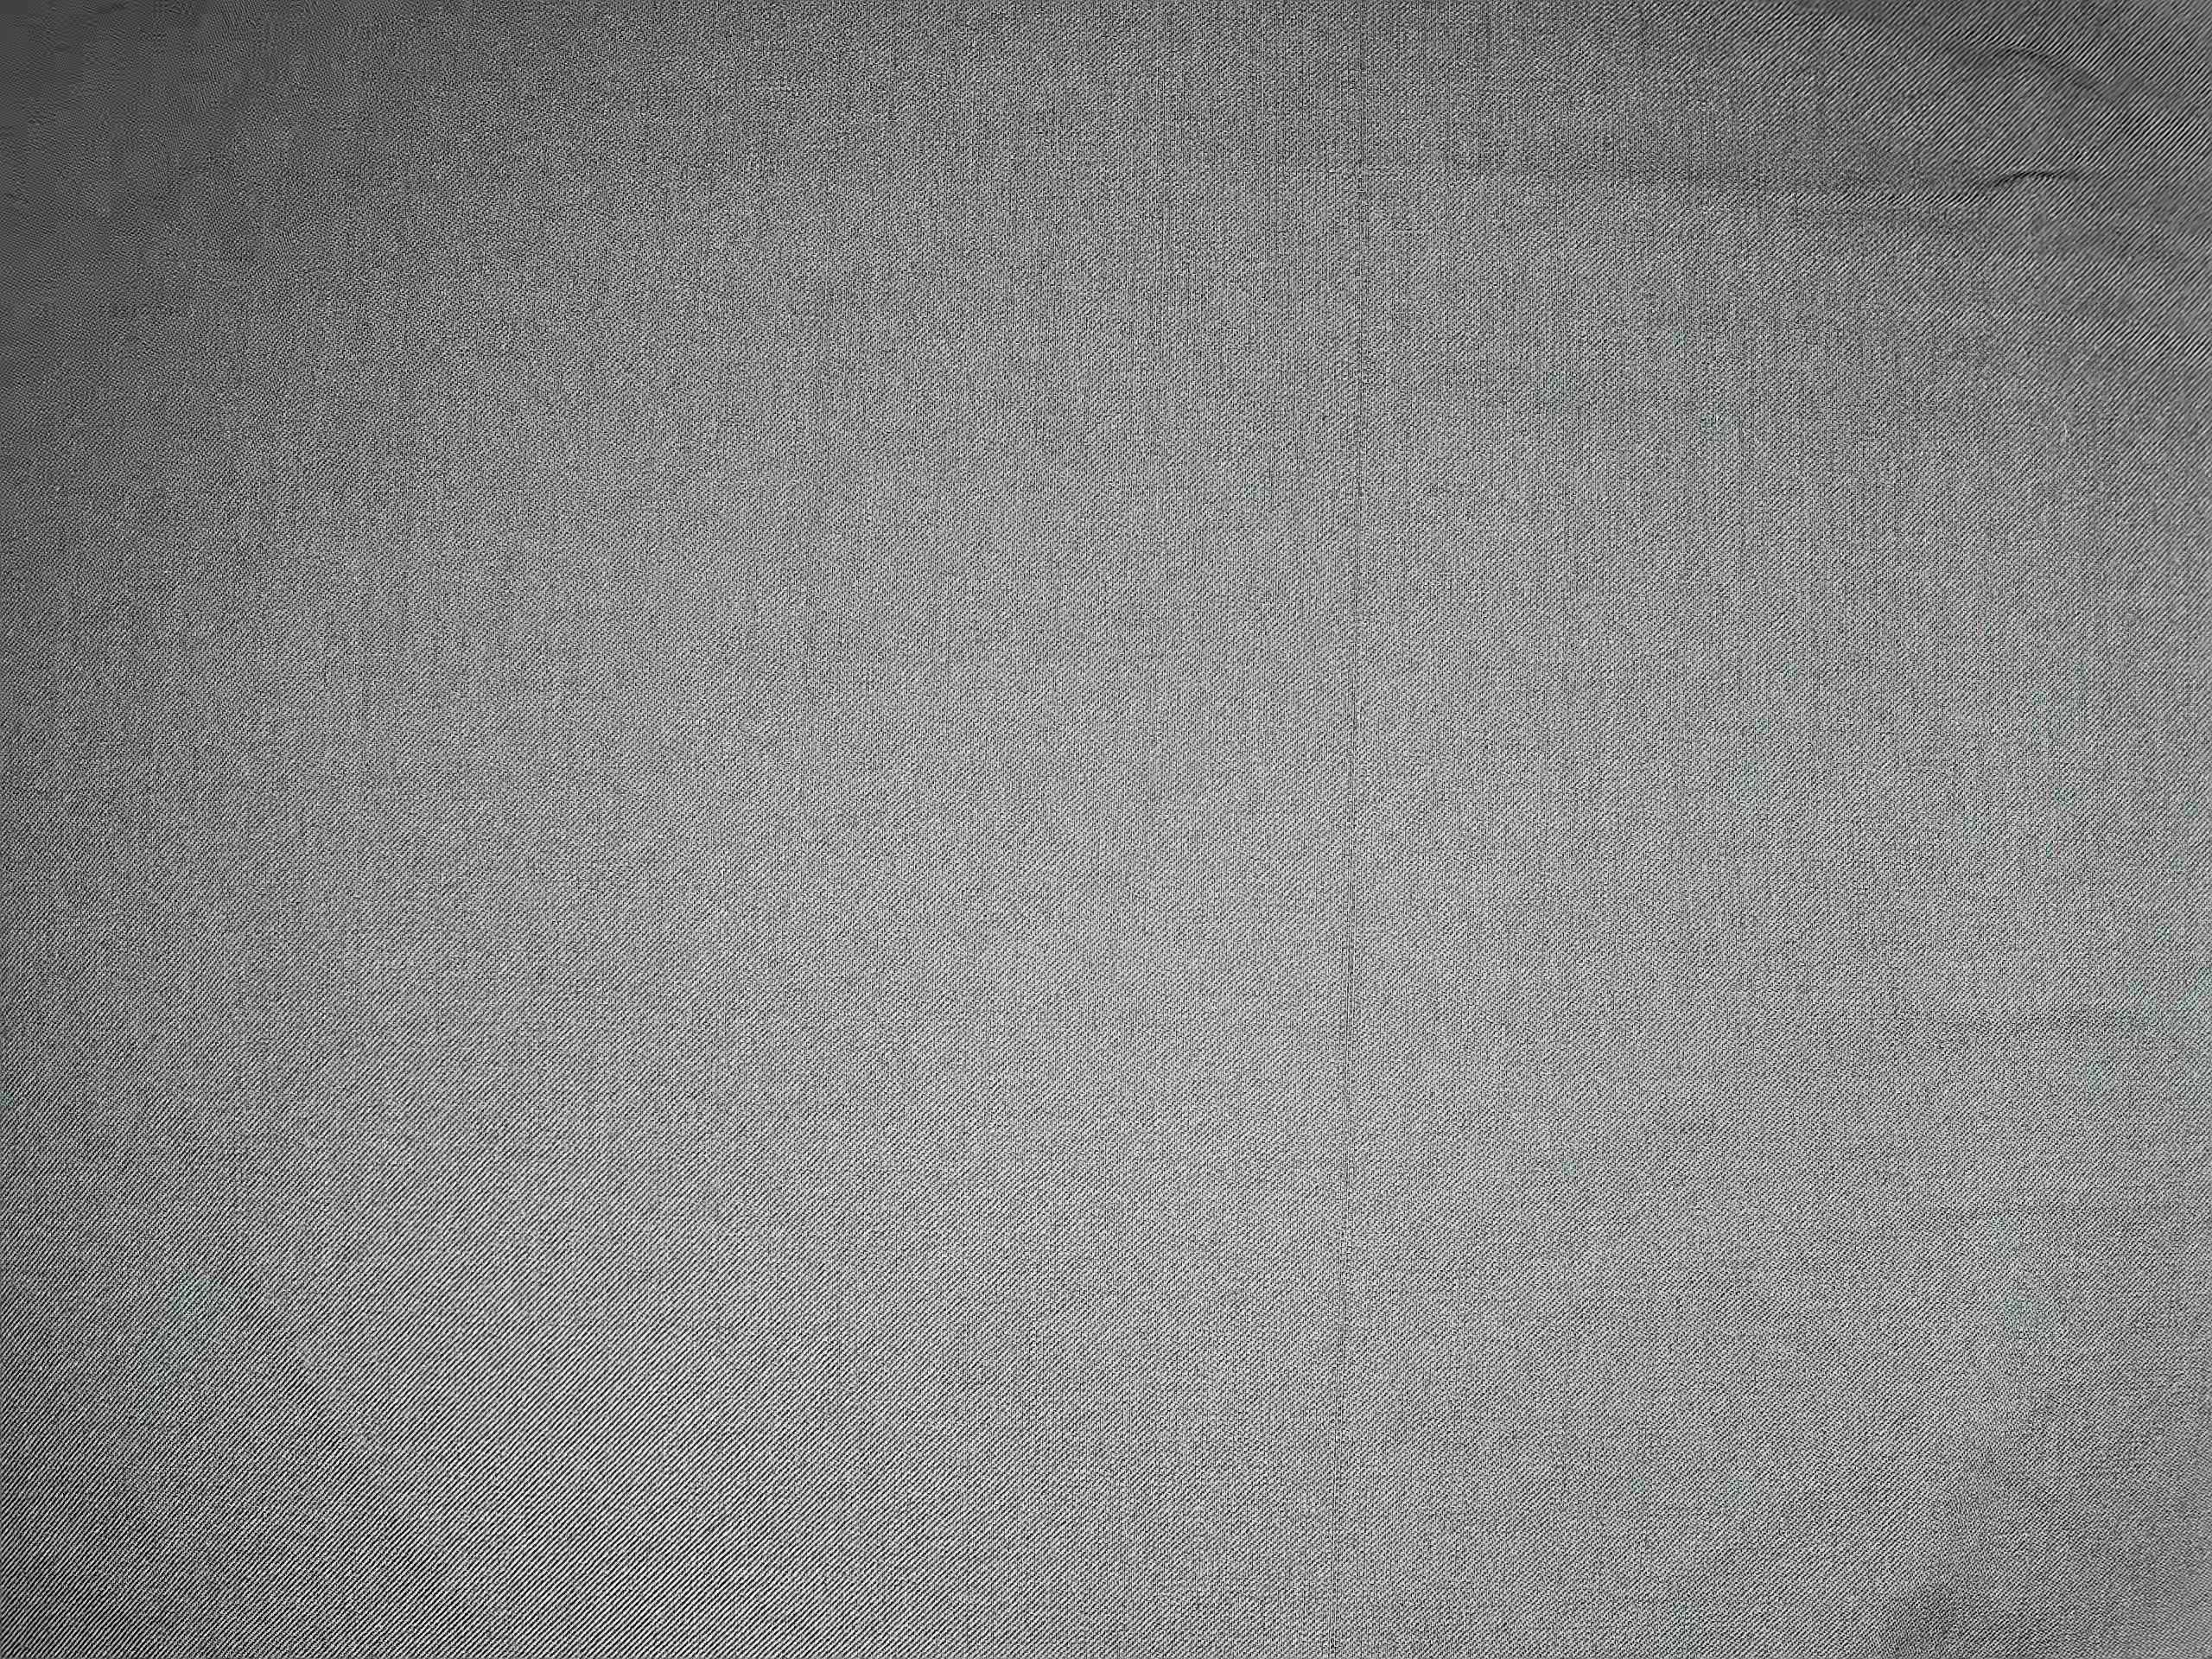hanging-warp: (1322, 9, 1371, 1645)
